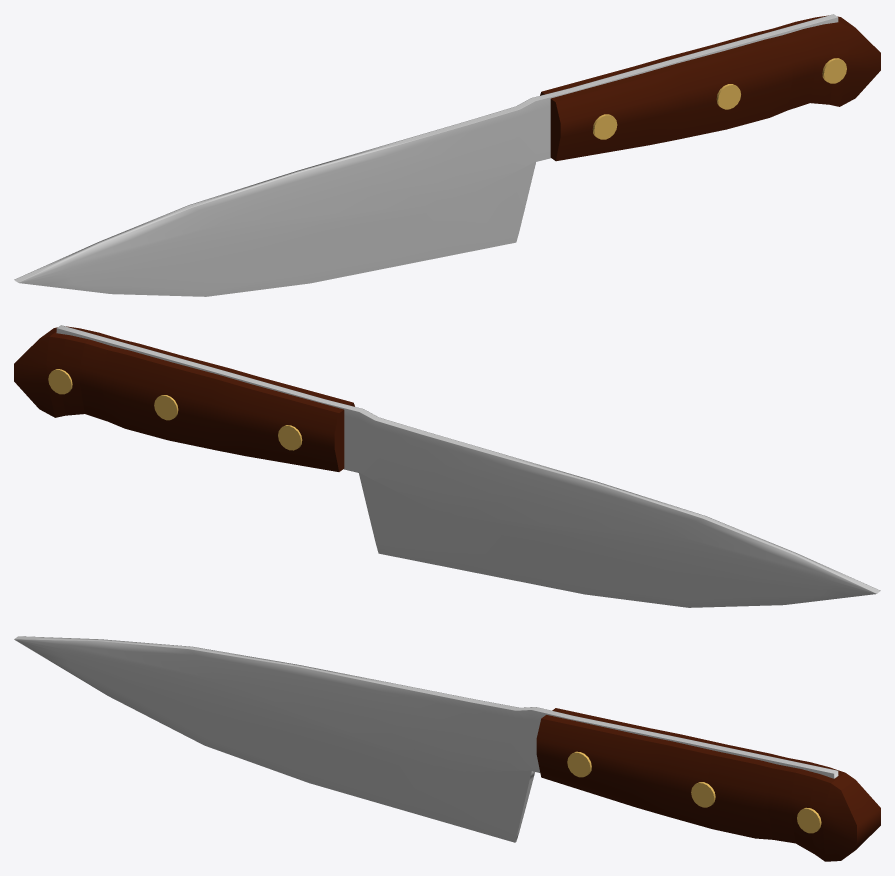
Rendered from Knife.fbx.
The picture shows the model from 3 angles, top to bottom: view 1: azimuth 30°, elevation 25°; view 2: azimuth 150°, elevation 25°; view 3: azimuth 330°, elevation 25°; orthographic projection.
Parts seen in each view (by area): view 1: polySurface10; view 2: polySurface10; view 3: polySurface10.
Part boxes in pixels (x1,y1,x2,y2): polySurface10: (14, 14, 880, 296); polySurface10: (14, 325, 880, 607); polySurface10: (14, 636, 880, 861).
Size of the model in its own units: 50.16 by 8.33 by 2.71.
